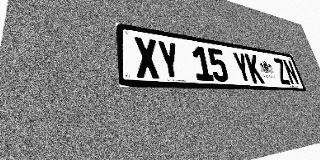1: (190, 45, 214, 81)
5: (207, 48, 230, 82)
K: (244, 53, 265, 84)
N: (282, 59, 300, 85)
X: (133, 36, 161, 79)
Y: (156, 40, 182, 80), (231, 51, 253, 83)
Z: (272, 58, 291, 85)
